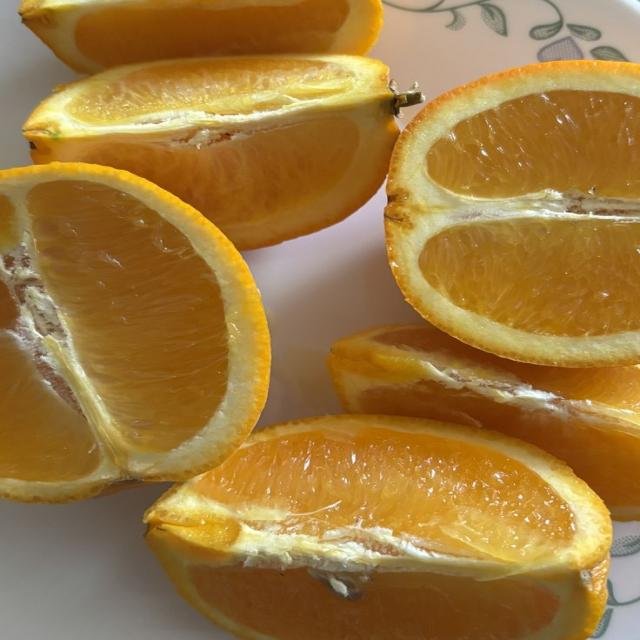orange: (146, 415, 611, 639), (0, 164, 269, 501), (387, 61, 639, 366), (24, 55, 398, 249), (329, 323, 639, 519), (20, 0, 382, 73)
